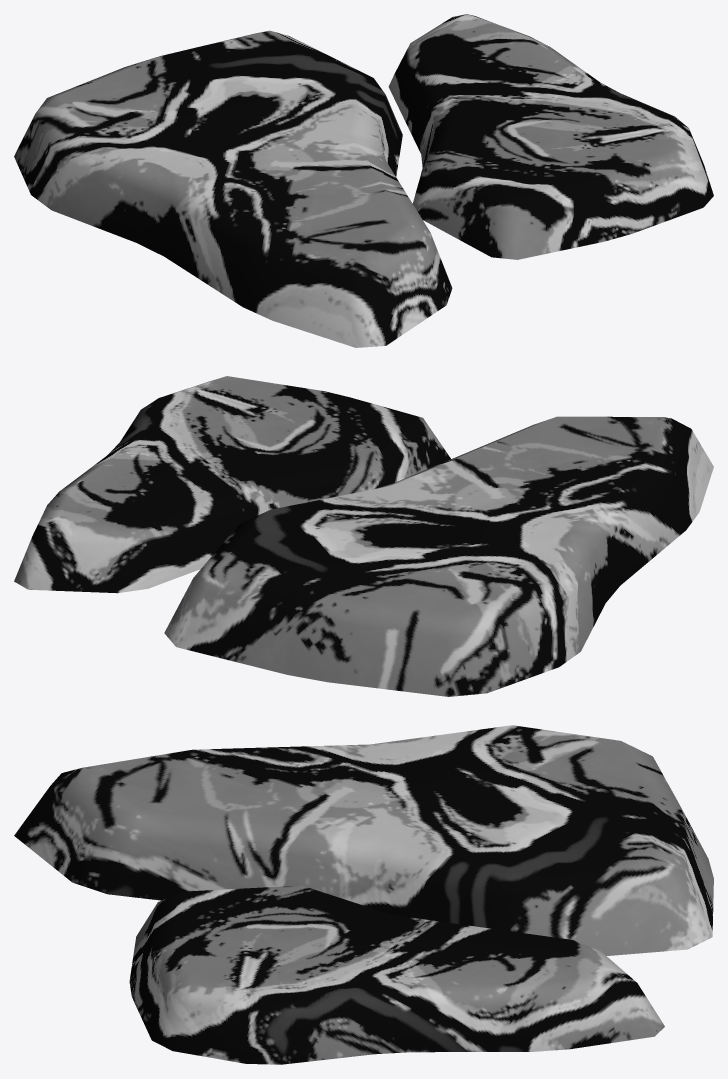
Rendered from Stone Floor.fbx.
3 renders of one model, top to bottom at view 1: azimuth 30°, elevation 25°; view 2: azimuth 150°, elevation 25°; view 3: azimuth 270°, elevation 25°, orthographic. The views are drawn at different scales.
Parts seen in each view (by area): view 1: Stone_1; view 2: Stone_1; view 3: Stone_1.
Part boxes in pixels (box(x1,y1,x2,y2)): Stone_1: box(14, 14, 713, 347); Stone_1: box(14, 376, 713, 696); Stone_1: box(14, 725, 713, 1064).
Size of the model in its own units: 75.27 by 8.26 by 77.01.
Materials: 1 (1 with a texture image).
